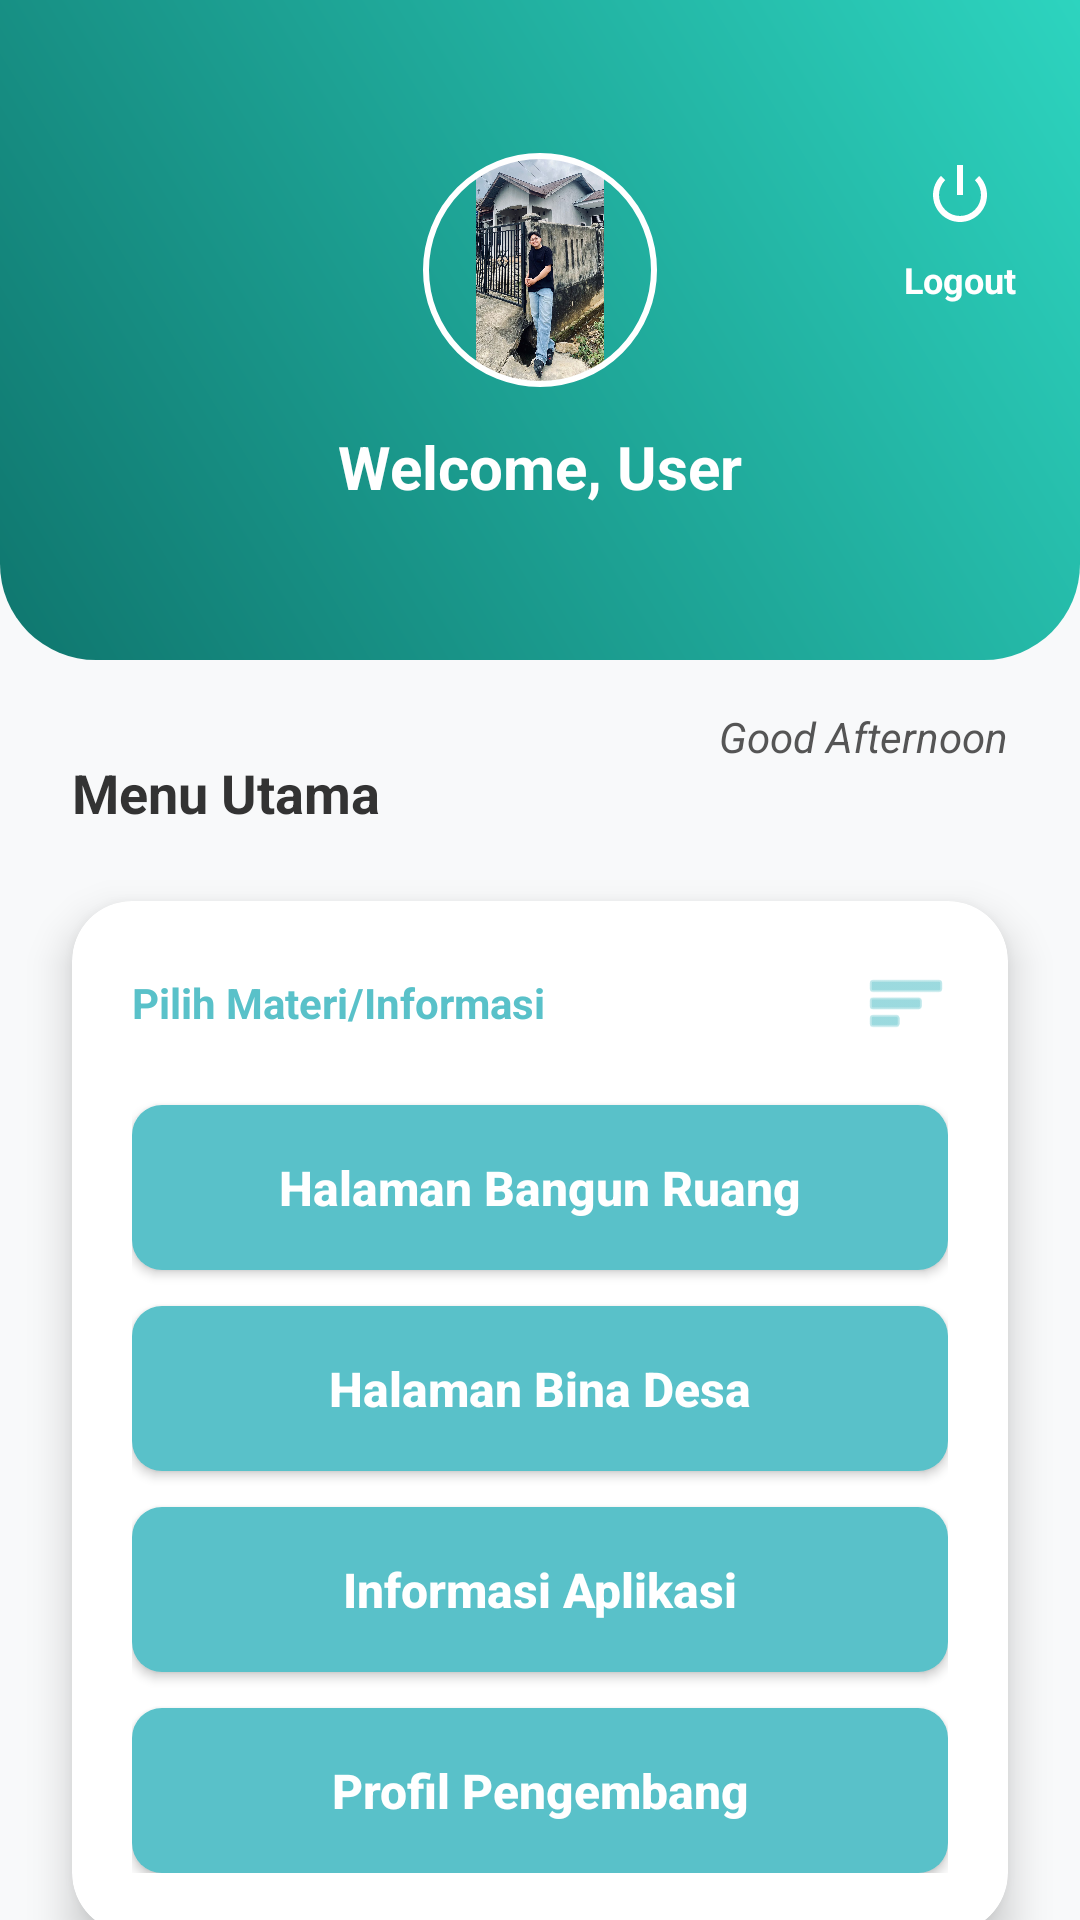

Icons on this 1080px×1920px Android screen, each with the point to tap as (x=x, y=y):
lock power off: (x=960, y=193)
sort by size: (x=906, y=1003)
